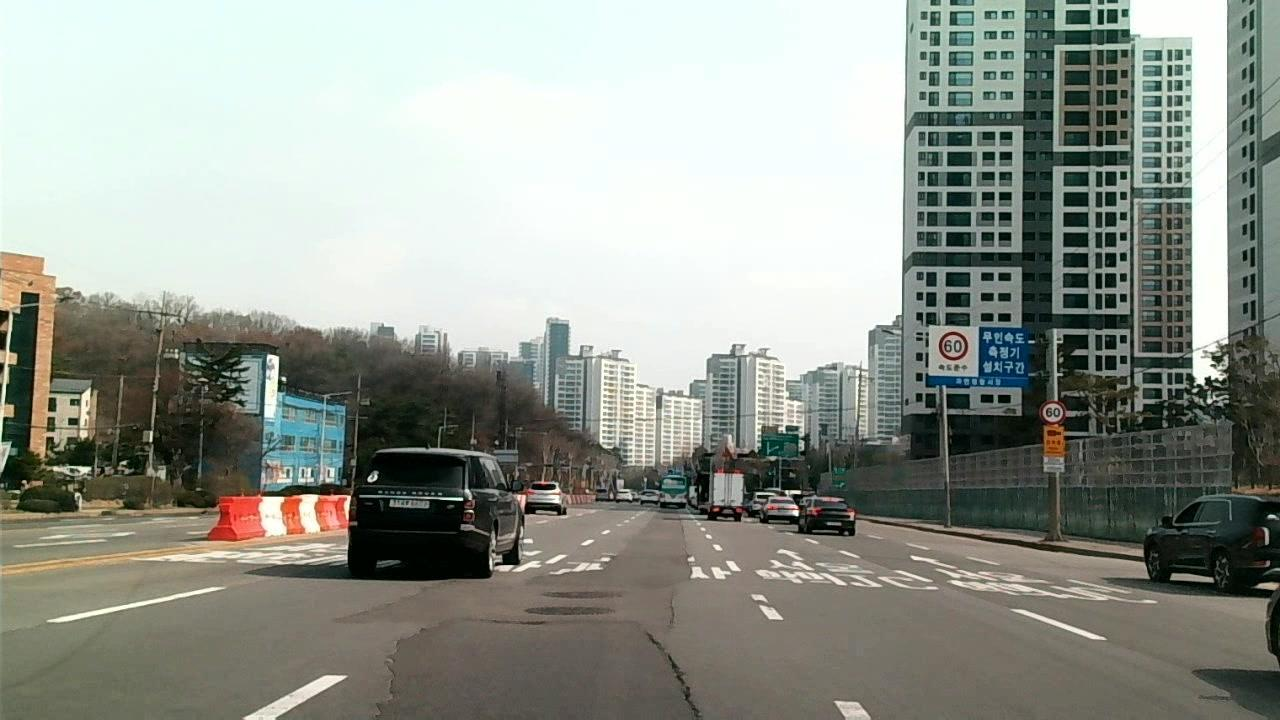vcrack: (648, 633, 704, 720)
